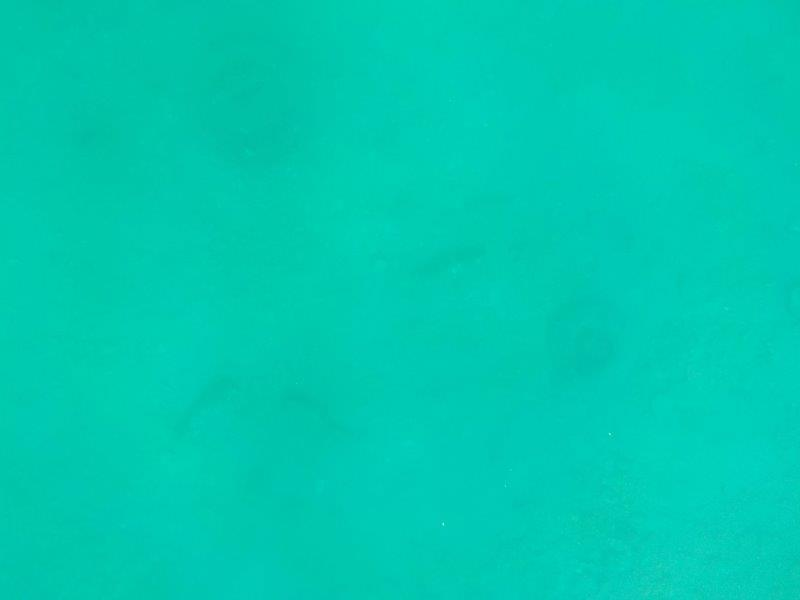bottle: (172, 370, 253, 453), (282, 389, 362, 445)
tire: (178, 40, 315, 168), (544, 296, 641, 395)
